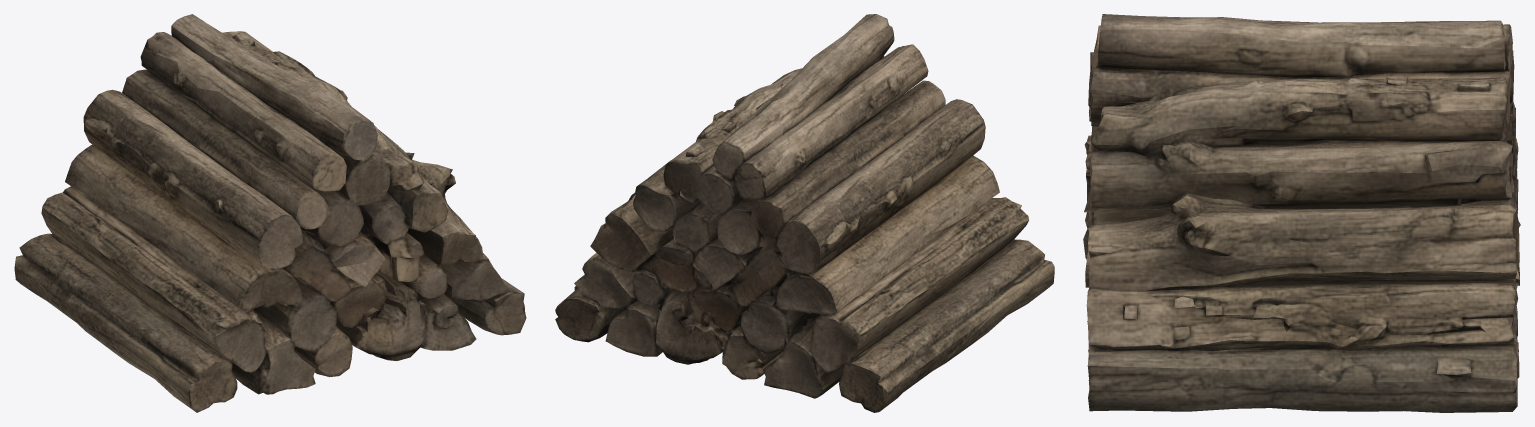
The model's file is firewood.glb.
The picture shows the model from 3 angles, left to right: view 1: azimuth 30°, elevation 25°; view 2: azimuth 150°, elevation 25°; view 3: azimuth 270°, elevation 25°; orthographic projection. The views are drawn at different scales.
Parts seen in each view (by area): view 1: world; view 2: world; view 3: world.
Boxes of the visible parts, x1,y1,x2,y2 form: world: [14, 14, 526, 412]; world: [555, 14, 1054, 412]; world: [1083, 14, 1520, 412].
Size of the model in its own units: 0.8 by 0.556 by 0.7236.
1 material, 1 textured.
